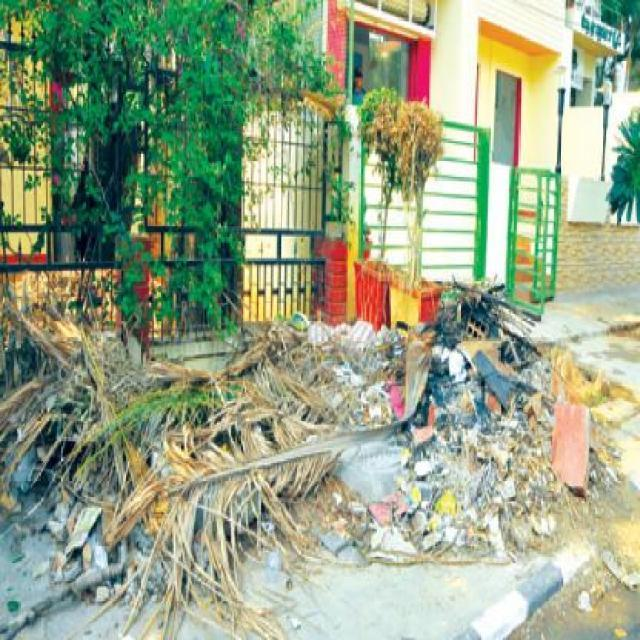garbage: (103, 340, 338, 581), (345, 331, 600, 540), (5, 283, 99, 550), (440, 280, 512, 340)
